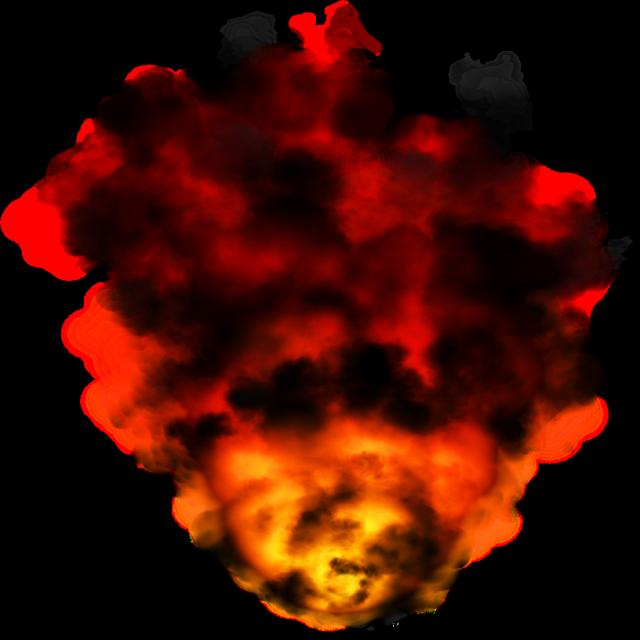fire: (160, 276, 529, 625)
